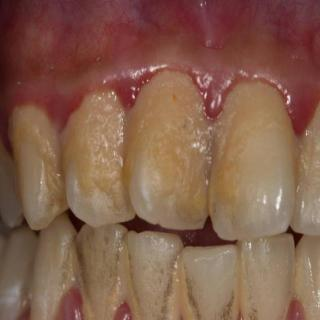Gum Swelling: (2, 27, 320, 136)
calculus: (130, 72, 208, 224), (212, 80, 294, 224), (65, 95, 126, 209), (7, 109, 67, 211), (129, 238, 183, 320), (75, 237, 124, 320), (185, 266, 258, 318), (293, 107, 320, 229)
maligned: (128, 77, 214, 235), (59, 98, 135, 220), (184, 234, 242, 318)
stains: (98, 230, 142, 320), (158, 248, 205, 320), (51, 230, 93, 293), (222, 264, 266, 320)
